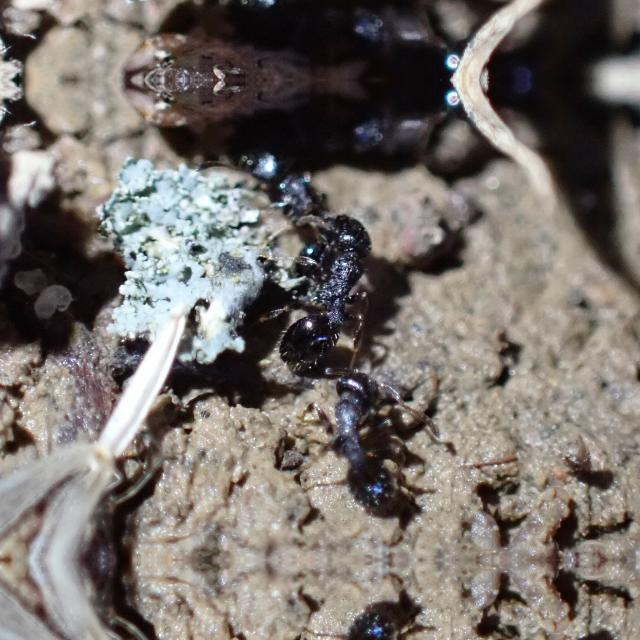Temnothorax: (257, 206, 388, 382), (295, 355, 433, 519), (222, 126, 382, 264), (295, 600, 433, 640), (222, 0, 382, 34)
